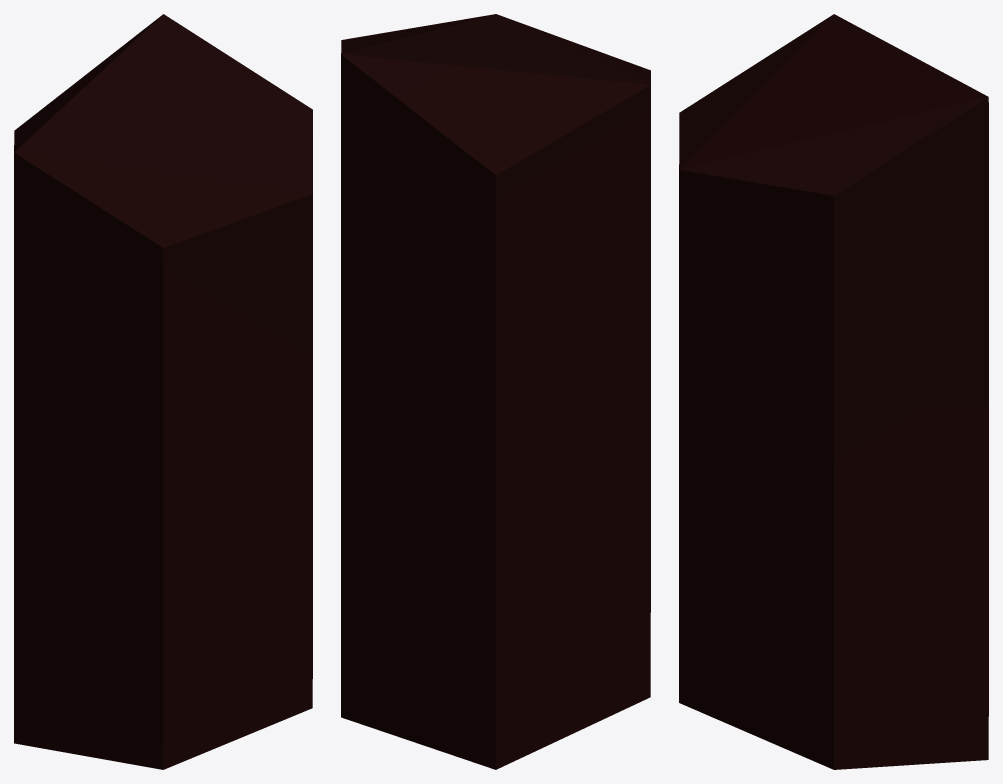
File: tf_talus_chunk_2.glb
The picture shows the model from 3 angles, left to right: view 1: azimuth 30°, elevation 25°; view 2: azimuth 150°, elevation 25°; view 3: azimuth 270°, elevation 25°; orthographic projection. The views are drawn at different scales.
Visible parts, largest first — view 1: tf_talus_chunk_2; view 2: tf_talus_chunk_2; view 3: tf_talus_chunk_2.
Boxes of the visible parts, x1,y1,x2,y2 form: tf_talus_chunk_2: (14, 14, 312, 769); tf_talus_chunk_2: (341, 14, 650, 769); tf_talus_chunk_2: (679, 14, 988, 769).
Bounding box in the file's own units: 0.8 × 1.67 × 0.6931.
